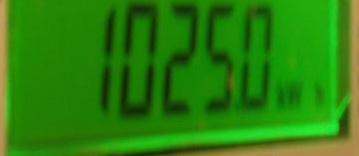.: (277, 80, 330, 107)
0: (234, 102, 240, 111)
1: (120, 3, 158, 117), (240, 4, 273, 107)
2: (100, 5, 118, 112)
3: (162, 3, 204, 113)
6: (203, 3, 235, 111)
